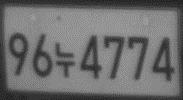4: (78, 33, 103, 80), (151, 35, 176, 82)
6: (31, 33, 53, 78)
7: (103, 34, 127, 79), (127, 34, 148, 82)
9: (8, 32, 29, 77)
누: (53, 40, 76, 78)
